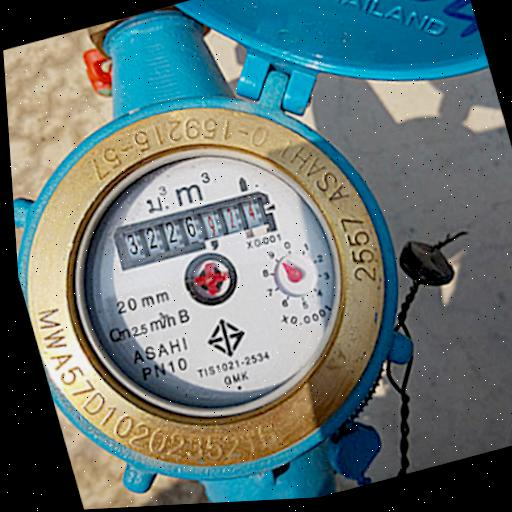2: (141, 224, 163, 256), (161, 218, 183, 250), (220, 203, 242, 233)
3: (121, 229, 144, 261)
4: (240, 196, 262, 228)
6: (180, 213, 202, 244)
9: (201, 207, 223, 238)
border_water_meter_number: (107, 186, 279, 273)
